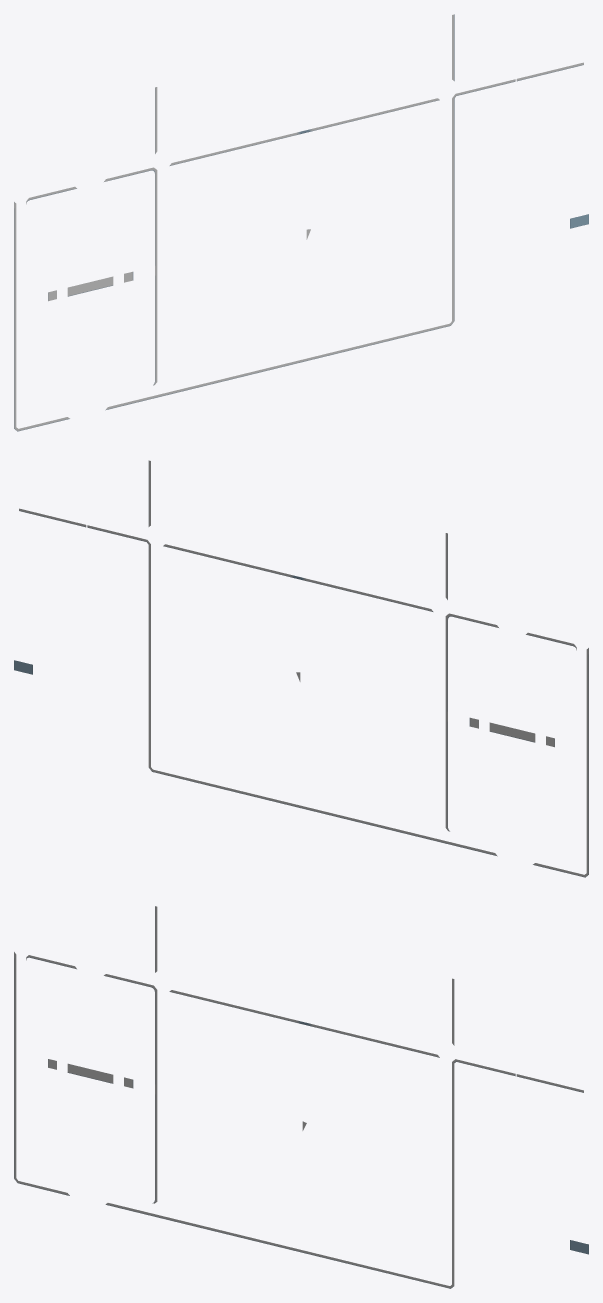
The model's file is SM_000420_merge_road03_blue__001.fbx.
3 renders of one model, top to bottom at view 1: azimuth 30°, elevation 25°; view 2: azimuth 150°, elevation 25°; view 3: azimuth 330°, elevation 25°, orthographic.
Visible parts, largest first — view 1: SM_000420.001; view 2: SM_000420.001; view 3: SM_000420.001.
Boxes of the visible parts, <box> form: SM_000420.001: <box>14,14,588,431</box>; SM_000420.001: <box>14,460,588,877</box>; SM_000420.001: <box>14,906,588,1288</box>.
Size of the model in its own units: 317 by 164 by 2.03.
